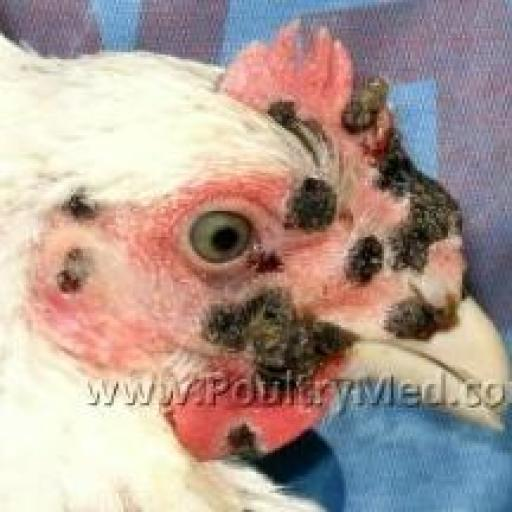disease: (346, 65, 465, 302), (185, 286, 358, 390), (46, 176, 120, 298), (380, 278, 462, 356), (272, 161, 349, 237), (340, 214, 384, 302), (240, 220, 288, 286), (263, 83, 313, 140), (218, 416, 266, 464)
